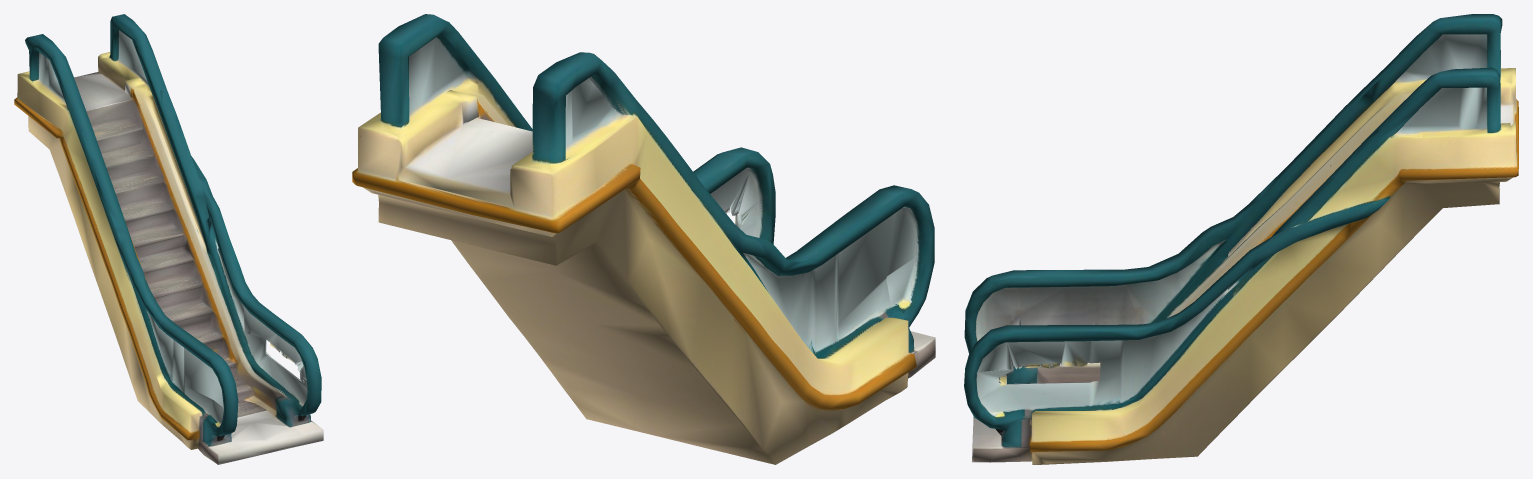
File: mall_escalator_3000.glb
3 renders of one model, left to right at view 1: azimuth 30°, elevation 25°; view 2: azimuth 150°, elevation 25°; view 3: azimuth 270°, elevation 25°, orthographic. The views are drawn at different scales.
Visible parts, largest first — view 1: tripo_node_55ab2a7c-ac82-48ad-b78a-142cdabad9ba; view 2: tripo_node_55ab2a7c-ac82-48ad-b78a-142cdabad9ba; view 3: tripo_node_55ab2a7c-ac82-48ad-b78a-142cdabad9ba.
Part boxes in pixels (left/top/right/bottom): tripo_node_55ab2a7c-ac82-48ad-b78a-142cdabad9ba: left=14, top=14, right=323, bottom=464; tripo_node_55ab2a7c-ac82-48ad-b78a-142cdabad9ba: left=352, top=14, right=935, bottom=464; tripo_node_55ab2a7c-ac82-48ad-b78a-142cdabad9ba: left=964, top=14, right=1518, bottom=464.
Size of the model in its own units: 0.3379 by 0.7475 by 0.9796.
1 material, 1 textured.
